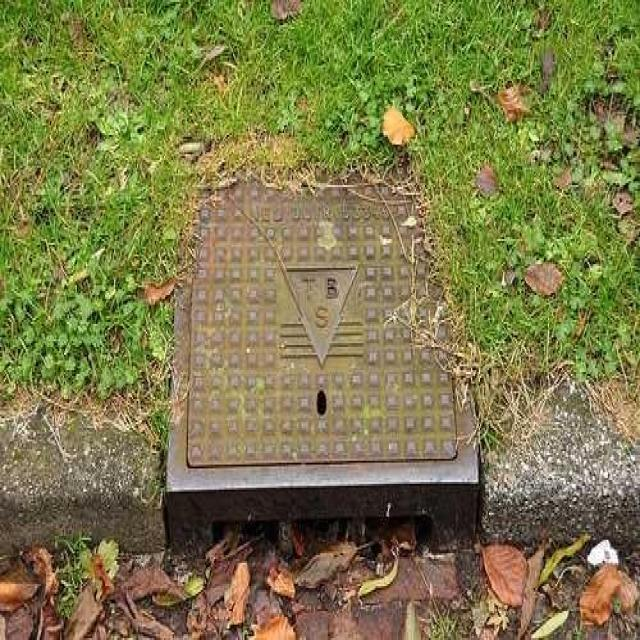manhole: (163, 173, 485, 553)
